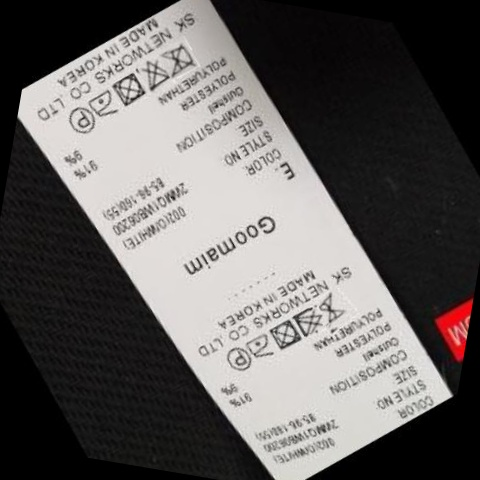DN_bleach: (141, 57, 172, 92), (293, 306, 325, 339)
DN_tumble_dry: (111, 67, 151, 110), (270, 318, 305, 353)
DN_wash: (162, 41, 197, 79), (318, 292, 351, 322)
dry_clean_any_solvent_except_trichloroethylene: (67, 105, 99, 137), (224, 344, 255, 374)
iron_low: (89, 89, 119, 119), (247, 332, 276, 359)
